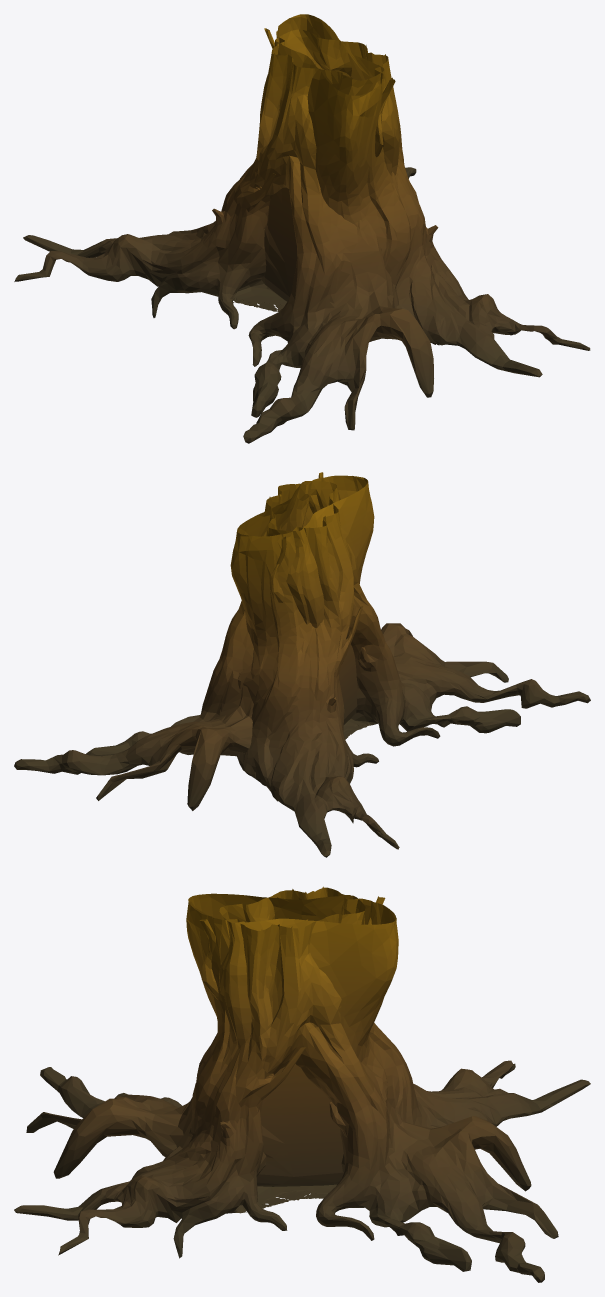
The model's file is SM_Tree_doors.fbx.
3 renders of one model, top to bottom at view 1: azimuth 30°, elevation 25°; view 2: azimuth 150°, elevation 25°; view 3: azimuth 270°, elevation 25°, orthographic. The views are drawn at different scales.
Visible parts, largest first — view 1: SM_Tree_doors; view 2: SM_Tree_doors; view 3: SM_Tree_doors.
Boxes of the visible parts, <box> form: SM_Tree_doors: <box>14,14,590,443</box>; SM_Tree_doors: <box>14,472,590,857</box>; SM_Tree_doors: <box>14,886,590,1282</box>.
Size of the model in its own units: 968 by 628 by 1100.
